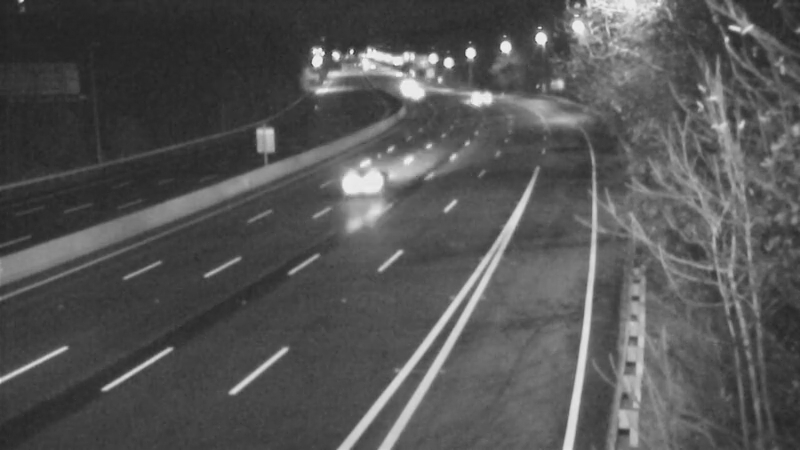vehicle: (330, 136, 410, 216), (385, 67, 435, 117), (390, 65, 440, 115), (446, 69, 496, 119)
